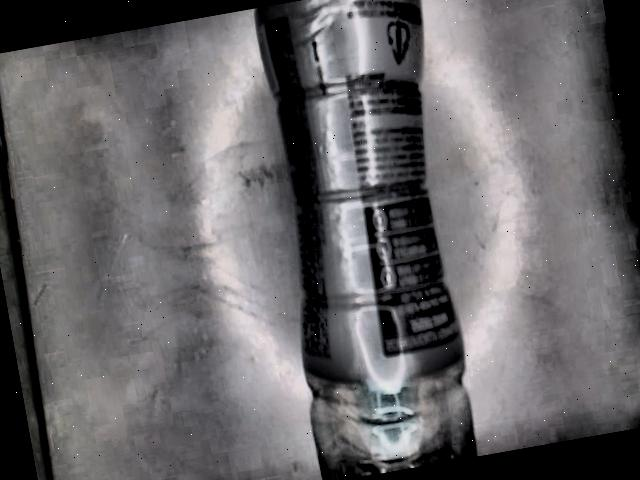Bottles: (255, 0, 474, 480)
